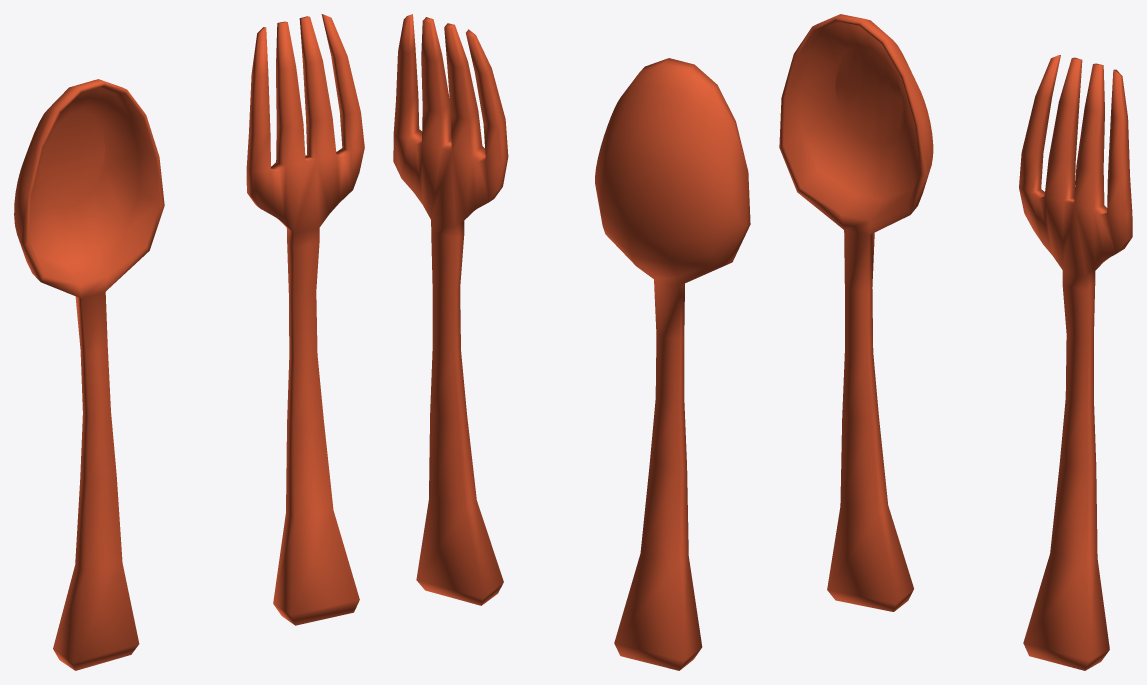
Rendered from SPOON&FORK_05.FBX.
The picture shows the model from 3 angles, left to right: view 1: azimuth 30°, elevation 25°; view 2: azimuth 150°, elevation 25°; view 3: azimuth 330°, elevation 25°; orthographic projection.
Parts seen in each view (by area): view 1: Sphere001, Object001; view 2: Sphere001, Object001; view 3: Sphere001, Object001.
Part boxes in pixels (x1,y1,x2,y2): Sphere001: (14, 79, 164, 670); Object001: (246, 14, 364, 625); Sphere001: (595, 58, 750, 670); Object001: (393, 14, 508, 605); Sphere001: (779, 14, 933, 611); Object001: (1019, 55, 1132, 670).
Size of the model in its own units: 72.96 by 119 by 17.17.
